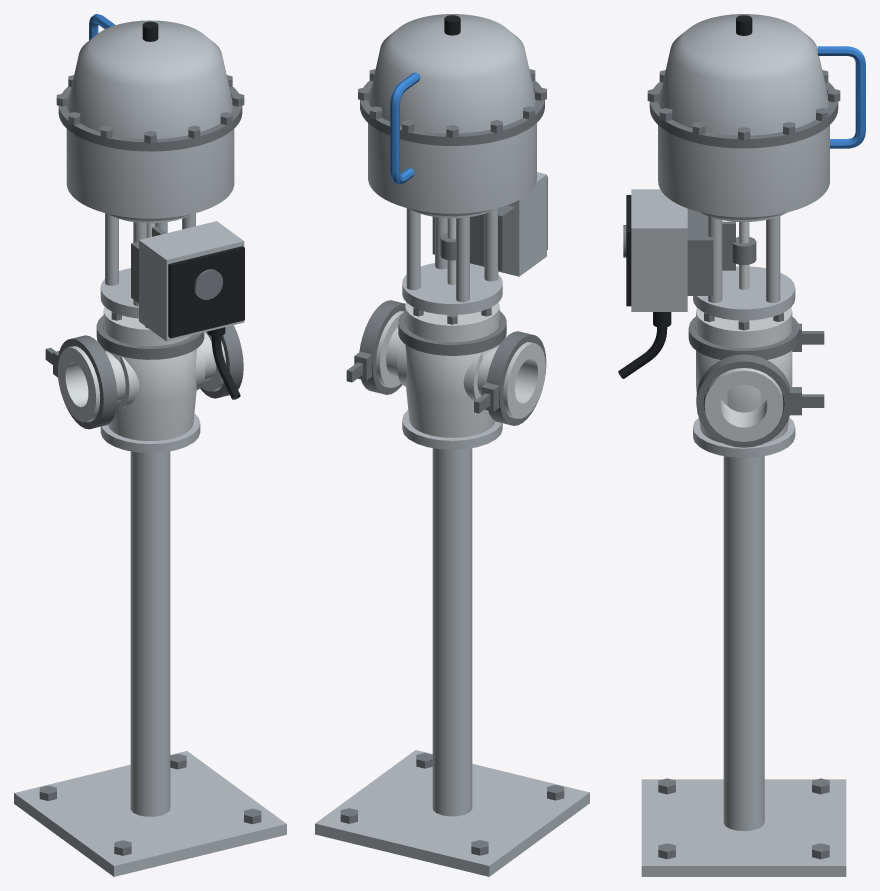
The model's file is regelventil.glb.
The picture shows the model from 3 angles, left to right: view 1: azimuth 30°, elevation 25°; view 2: azimuth 150°, elevation 25°; view 3: azimuth 270°, elevation 25°; orthographic projection. The views are drawn at different scales.
Visible parts, largest first — view 1: antriebsgehaeuse, fussplatte, stuetzrohr, koerper, reglergehaeuse, reglerdeckel, membranflansch, stutzen_ein_bund, stutzen_ein_klemme_band, deckelklemme, deckel, stuetzflansch (+6 smaller); view 2: antriebsgehaeuse, fussplatte, stuetzrohr, koerper, laternenfuss, reglergehaeuse, stutzen_ein_bund, membranflansch, deckel, reglerhalter, deckelklemme, stutzen_ein_klemme_band (+8 smaller); view 3: antriebsgehaeuse, fussplatte, stuetzrohr, reglergehaeuse, stutzen_aus_bund, laternenfuss, membranflansch, stutzen_aus_klemme_band, deckel, reglerhalter, koerper, deckelklemme (+9 smaller).
Part boxes in pixels (box(x1,y1,x2,y2)): antriebsgehaeuse: box(66, 20, 234, 218); fussplatte: box(14, 751, 286, 876); stuetzrohr: box(130, 451, 170, 816); koerper: box(104, 348, 197, 440); reglergehaeuse: box(139, 221, 244, 341); reglerdeckel: box(168, 246, 244, 338); membranflansch: box(58, 86, 242, 151); stutzen_ein_bund: box(57, 346, 100, 422); stutzen_ein_klemme_band: box(57, 335, 117, 429); deckelklemme: box(96, 315, 204, 359); deckel: box(103, 306, 192, 346); stuetzflansch: box(100, 413, 200, 453); antriebsgehaeuse: box(368, 14, 536, 213); fussplatte: box(315, 750, 589, 876); stuetzrohr: box(432, 448, 472, 816); koerper: box(405, 344, 498, 437); laternenfuss: box(402, 263, 502, 314); reglergehaeuse: box(498, 172, 546, 276); stutzen_ein_bund: box(503, 342, 545, 418); membranflansch: box(360, 80, 544, 145); deckel: box(405, 302, 499, 342); reglerhalter: box(432, 205, 514, 271); deckelklemme: box(398, 311, 506, 355); stutzen_ein_klemme_band: box(486, 331, 546, 425); antriebsgehaeuse: box(658, 14, 829, 217); fussplatte: box(641, 779, 846, 876); stuetzrohr: box(723, 456, 764, 831); reglergehaeuse: box(631, 189, 687, 311); stutzen_aus_bund: box(704, 368, 783, 441); laternenfuss: box(693, 266, 795, 320); membranflansch: box(649, 82, 838, 148); stutzen_aus_klemme_band: box(696, 354, 791, 447); deckel: box(696, 307, 792, 348); reglerhalter: box(687, 208, 713, 295); koerper: box(696, 350, 792, 443); deckelklemme: box(688, 316, 799, 359).
Bounding box in the file's own units: 0.2 × 0.878 × 0.242.
